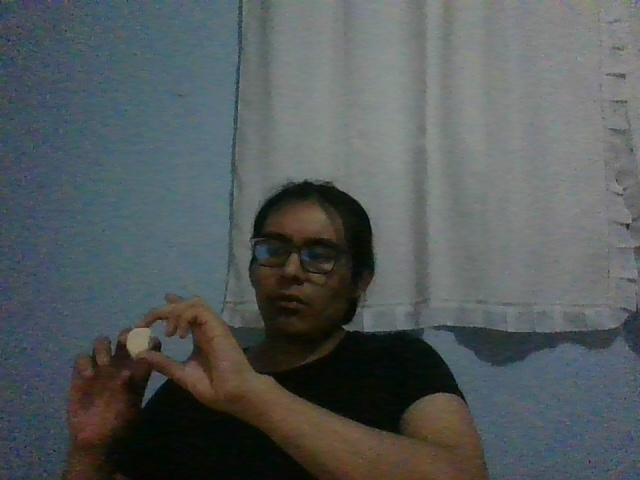goma: (126, 328, 154, 359)
